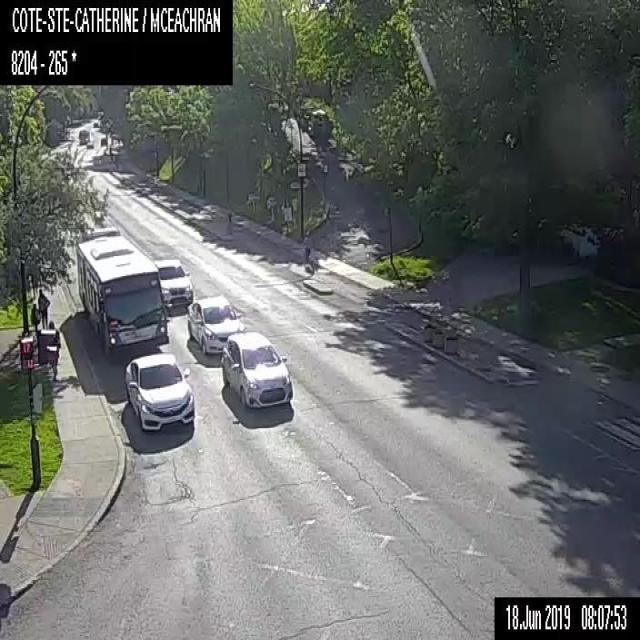bus: (74, 225, 168, 358)
cyclist: (299, 230, 318, 272), (223, 207, 234, 234)
pedestrian: (48, 320, 60, 377), (37, 286, 50, 327), (29, 302, 40, 336)
vehicle: (220, 330, 292, 409), (124, 352, 194, 432), (187, 294, 246, 356), (152, 258, 193, 308), (78, 128, 89, 144), (100, 136, 105, 145), (86, 141, 93, 147), (93, 121, 97, 127)
